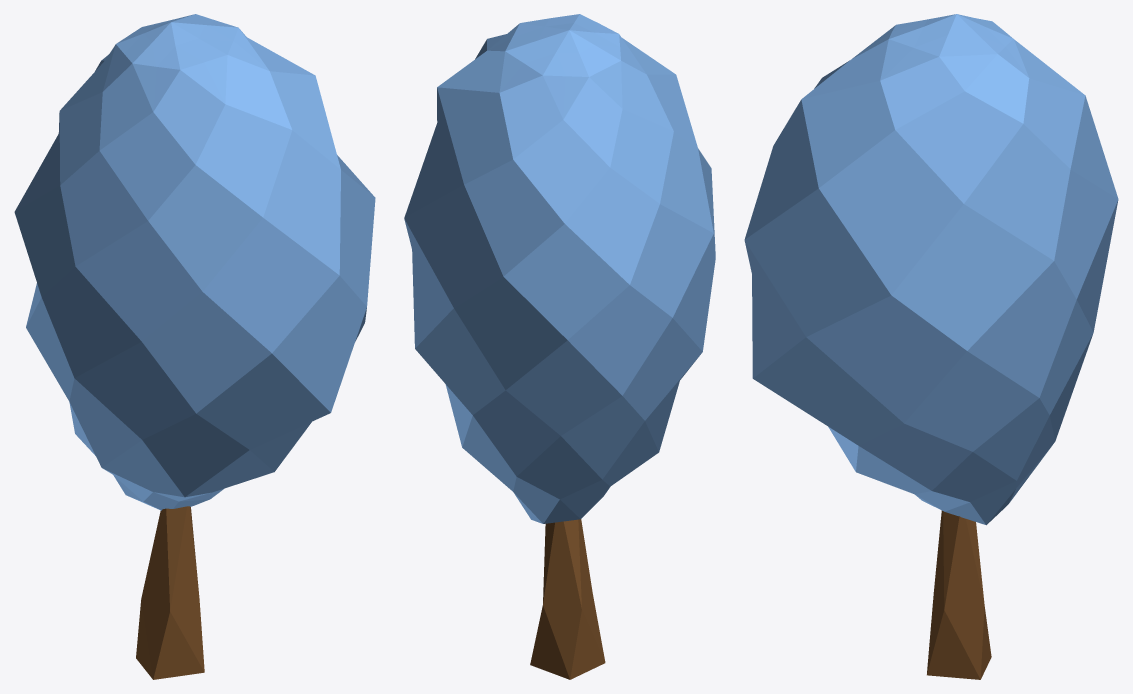
Rendered from Blue tree 2.fbx.
3 renders of one model, left to right at view 1: azimuth 30°, elevation 25°; view 2: azimuth 150°, elevation 25°; view 3: azimuth 270°, elevation 25°, orthographic. The views are drawn at different scales.
Parts seen in each view (by area): view 1: Cube.160; view 2: Cube.160; view 3: Cube.160.
Part boxes in pixels (<box>): Cube.160: <box>14,14,375,679</box>; Cube.160: <box>404,14,715,679</box>; Cube.160: <box>744,14,1118,679</box>.
Size of the model in its own units: 565 by 1185 by 616.
